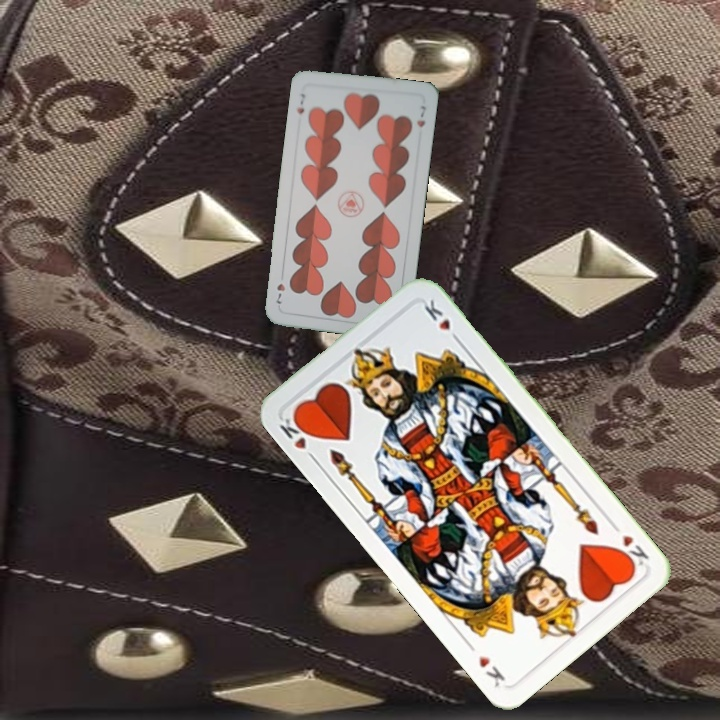H7: (293, 89, 308, 117)
HK: (606, 518, 652, 571), (275, 408, 316, 452)
